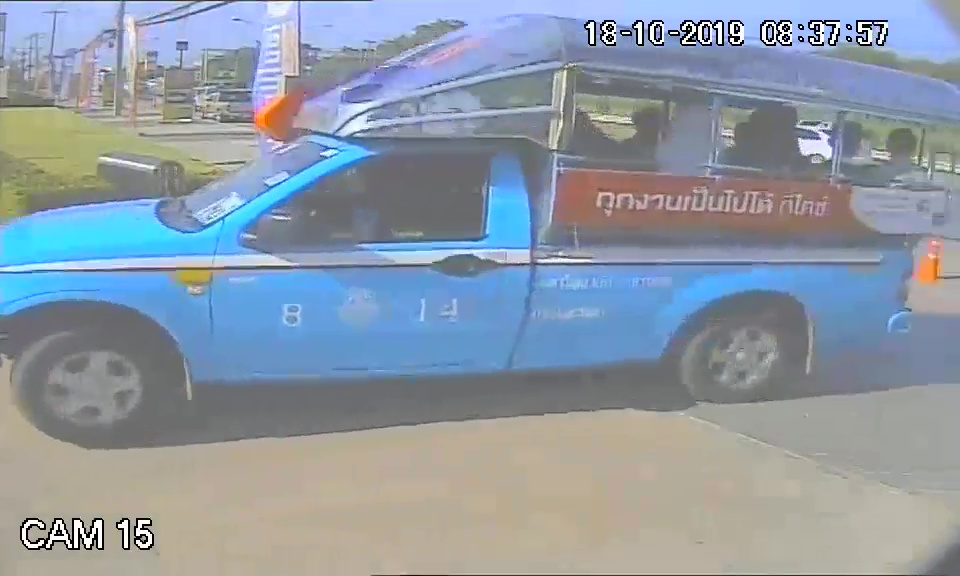pickup: (1, 125, 922, 439)
